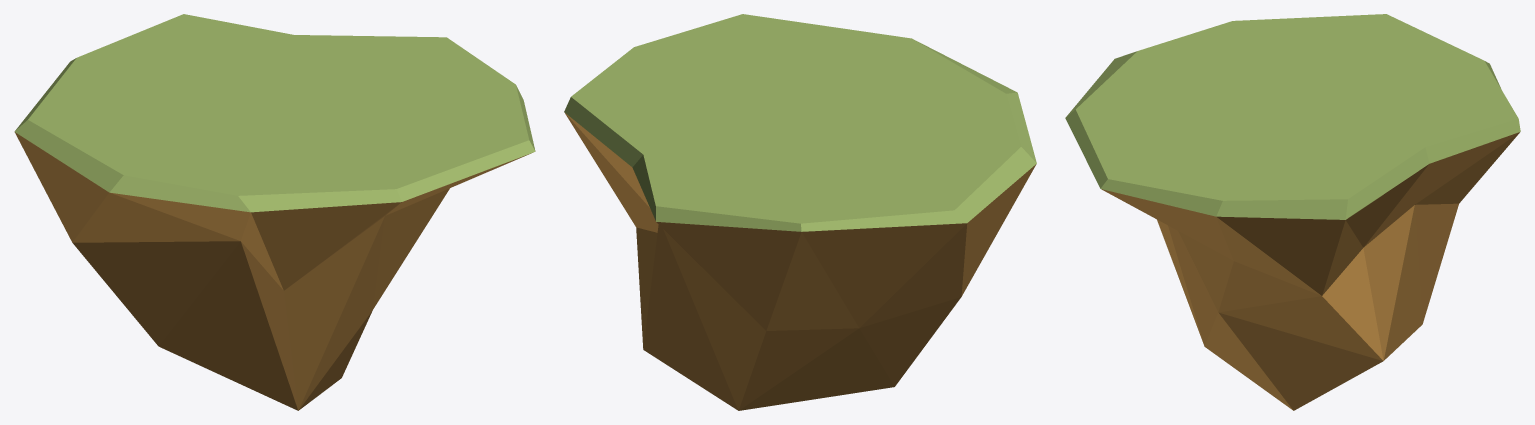
Rendered from SmallHoverWorld.fbx.
3 views of the same model, side by side, from view 1: azimuth 30°, elevation 25°; view 2: azimuth 150°, elevation 25°; view 3: azimuth 270°, elevation 25° (orthographic). The views are drawn at different scales.
Visible parts, largest first — view 1: Icosphere; view 2: Icosphere; view 3: Icosphere.
Boxes of the visible parts, x1,y1,x2,y2 form: Icosphere: (14,14,535,410); Icosphere: (564,14,1036,410); Icosphere: (1065,14,1520,410).
Bounding box in the file's own units: 1739 × 1138 × 1716.
